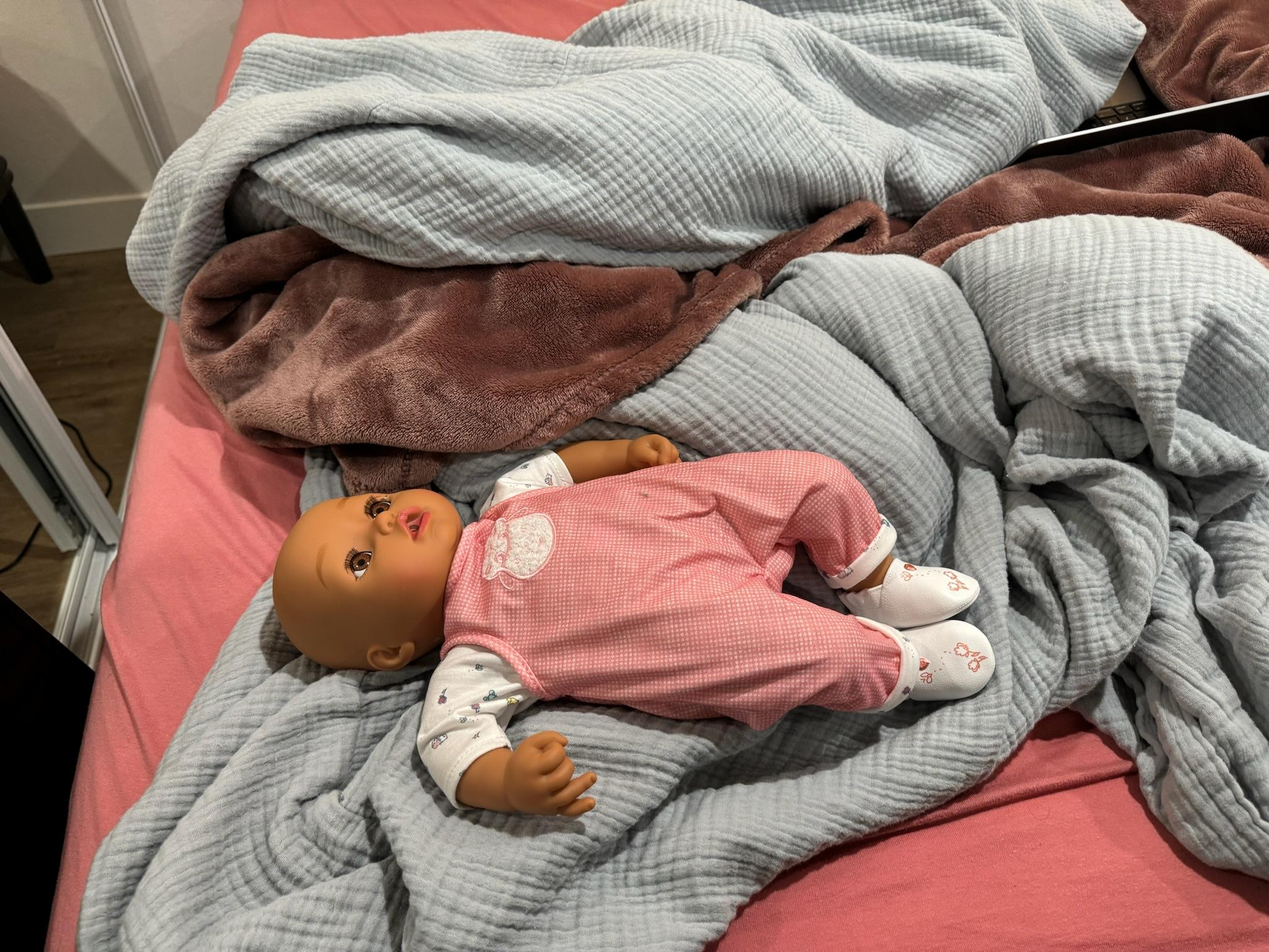baby: (251, 431, 1019, 806)
